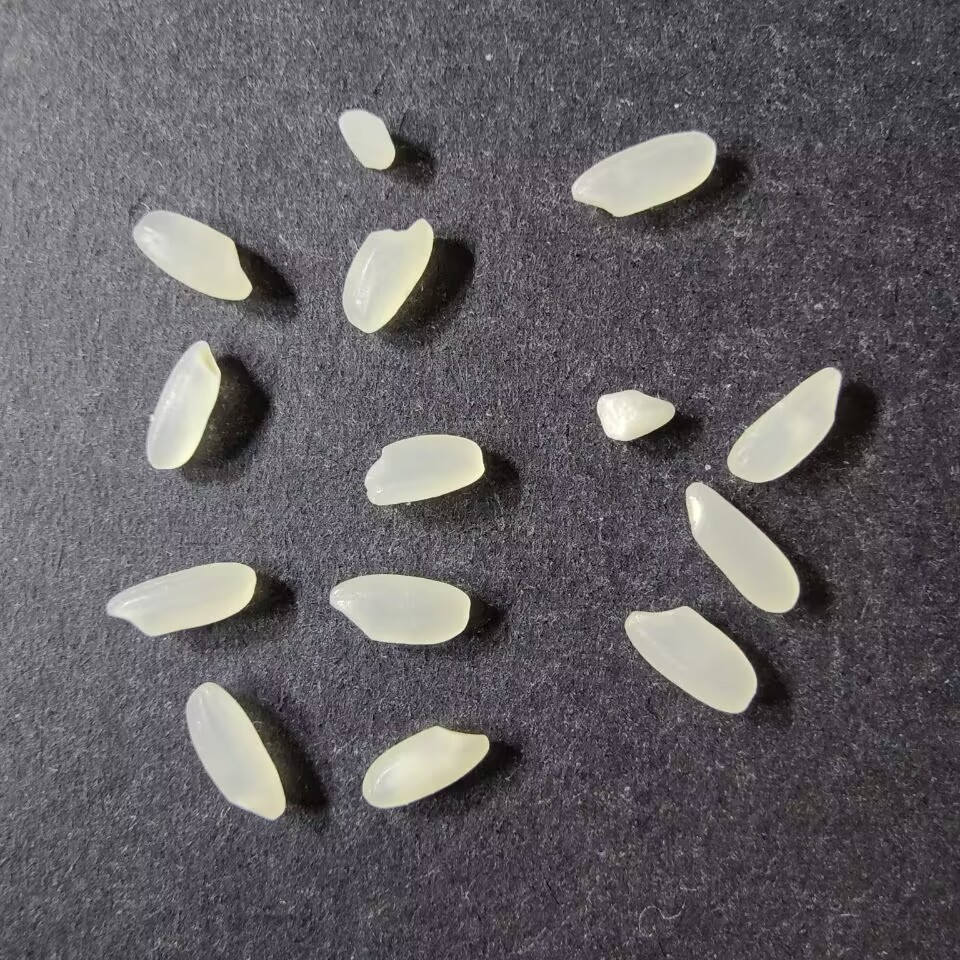broken: (595, 389, 676, 441), (337, 108, 395, 170)
rice: (684, 480, 800, 615), (623, 606, 758, 715), (184, 681, 286, 822), (726, 366, 841, 484), (570, 130, 717, 217), (104, 561, 256, 638), (132, 209, 253, 301), (341, 217, 434, 333), (361, 725, 489, 809), (327, 573, 470, 645), (144, 338, 221, 471), (363, 433, 484, 506)
